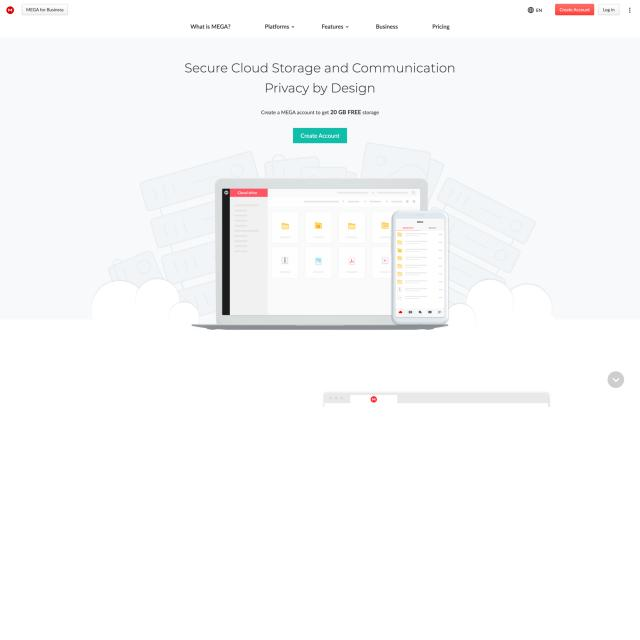CheckBox: (293, 127, 347, 144), (22, 4, 68, 15), (555, 4, 594, 15), (607, 370, 625, 388), (598, 4, 620, 15), (528, 6, 544, 14)
accordion: (548, 5, 550, 15)
alert: (264, 22, 296, 30), (321, 23, 349, 30)
bag: (0, 0, 640, 36)
card: (0, 35, 640, 334)
carousel: (629, 7, 631, 14)
data feed: (300, 132, 340, 140), (559, 7, 591, 12), (602, 7, 616, 13)
date picker: (4, 3, 18, 17)
decoration: (189, 21, 455, 34)
image: (182, 60, 457, 97)
